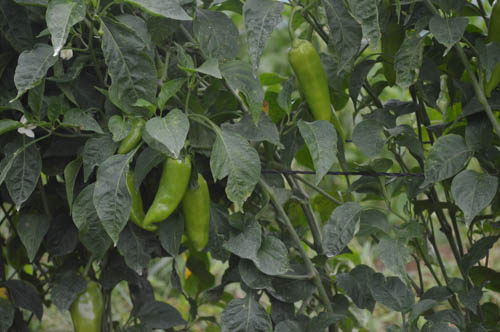ChiliPepper: (293, 40, 330, 132), (145, 158, 190, 227), (182, 174, 210, 253), (118, 174, 150, 231), (71, 283, 106, 332), (118, 118, 147, 156)
